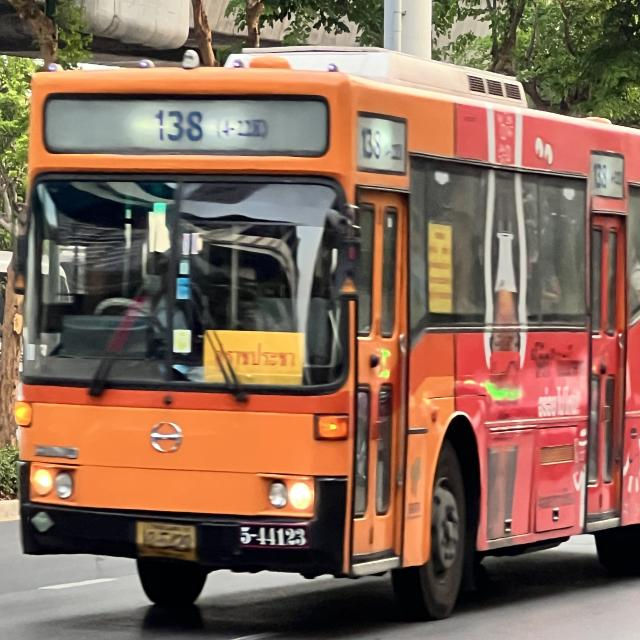BMTA-bus: (0, 31, 640, 625)
Bus-Line-Number: (147, 102, 277, 146)
Destination-Sign-Normal-Expressway: (201, 329, 303, 383)
